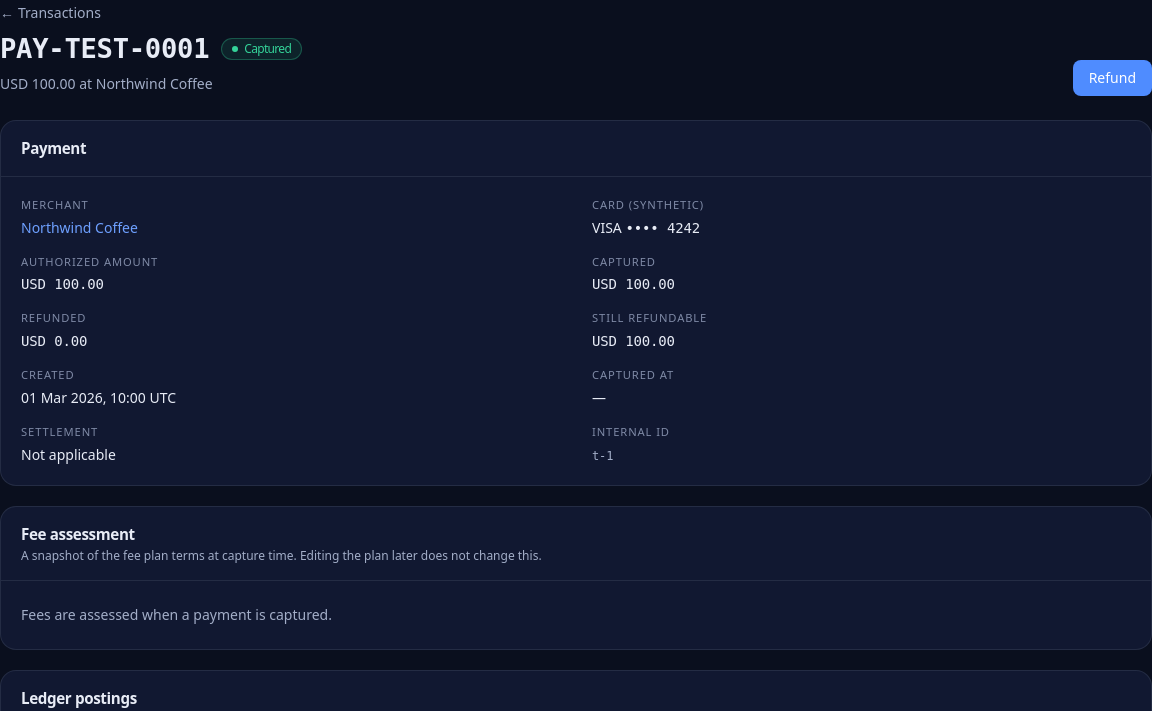
Test case: Transaction detail › blocks a refund larger than the refundable amount before calling the API
Click the button "Refund": (1112, 78) [1073, 60, 1151, 96]
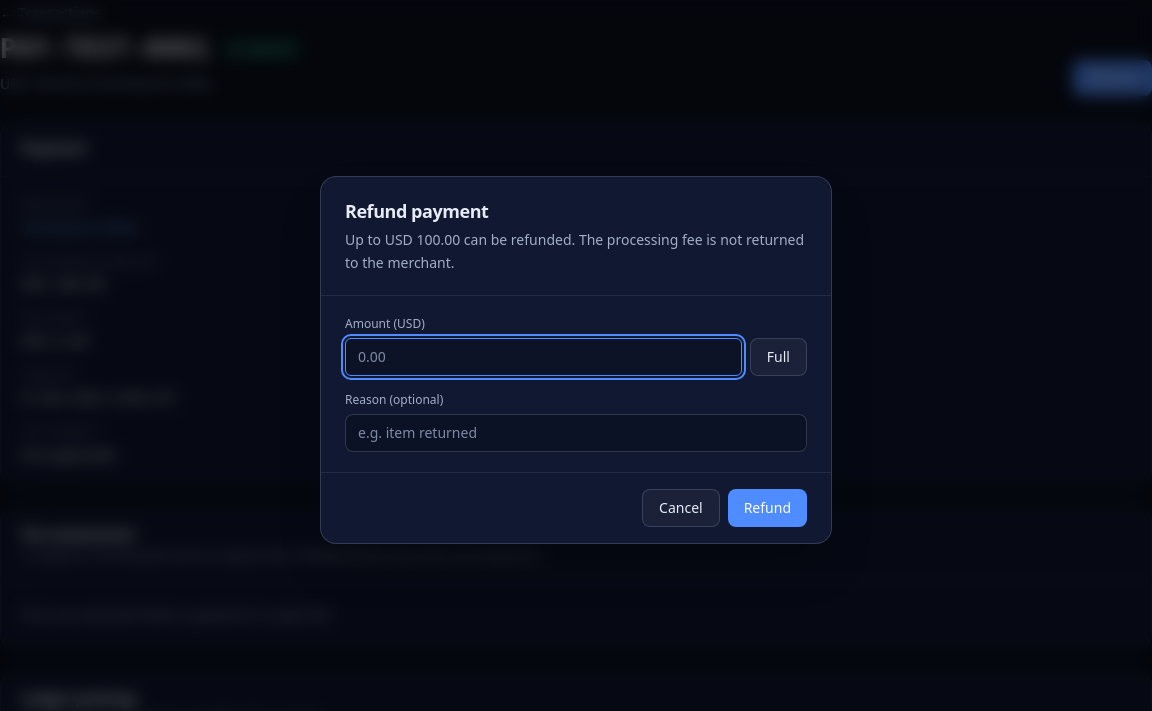
In the field labelled "Amount (USD)": (543, 357) [345, 338, 742, 376], type "100.01"
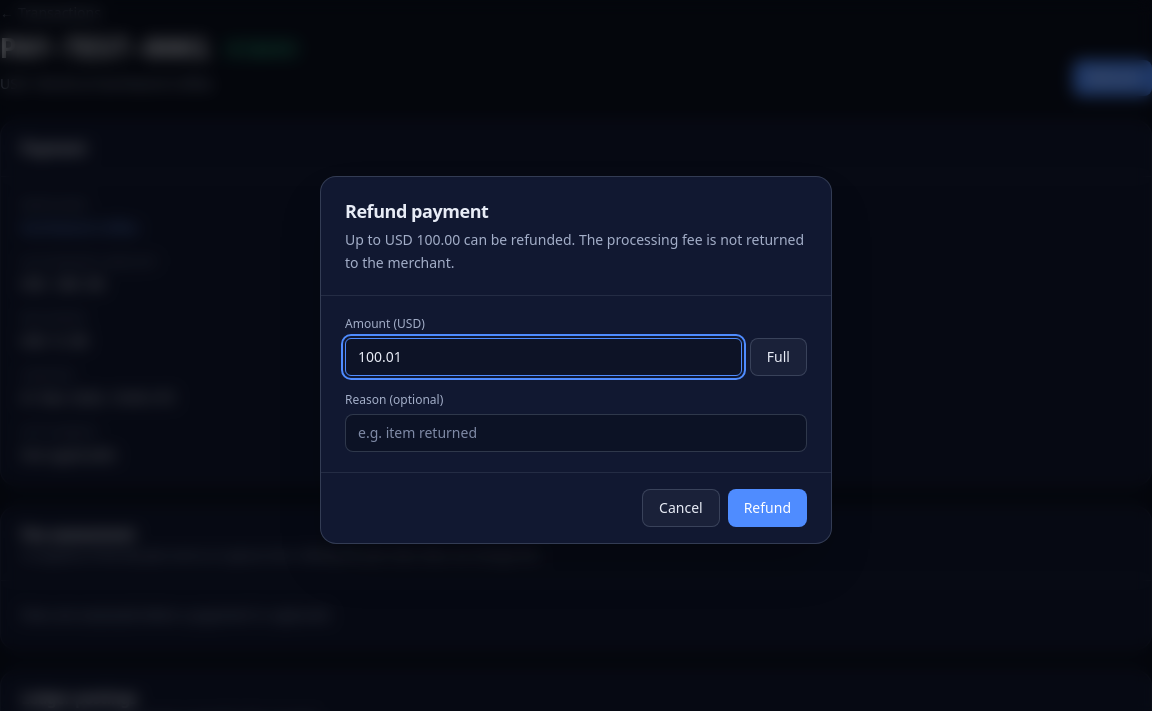
Click the button "Refund": (767, 508) [728, 489, 807, 527]
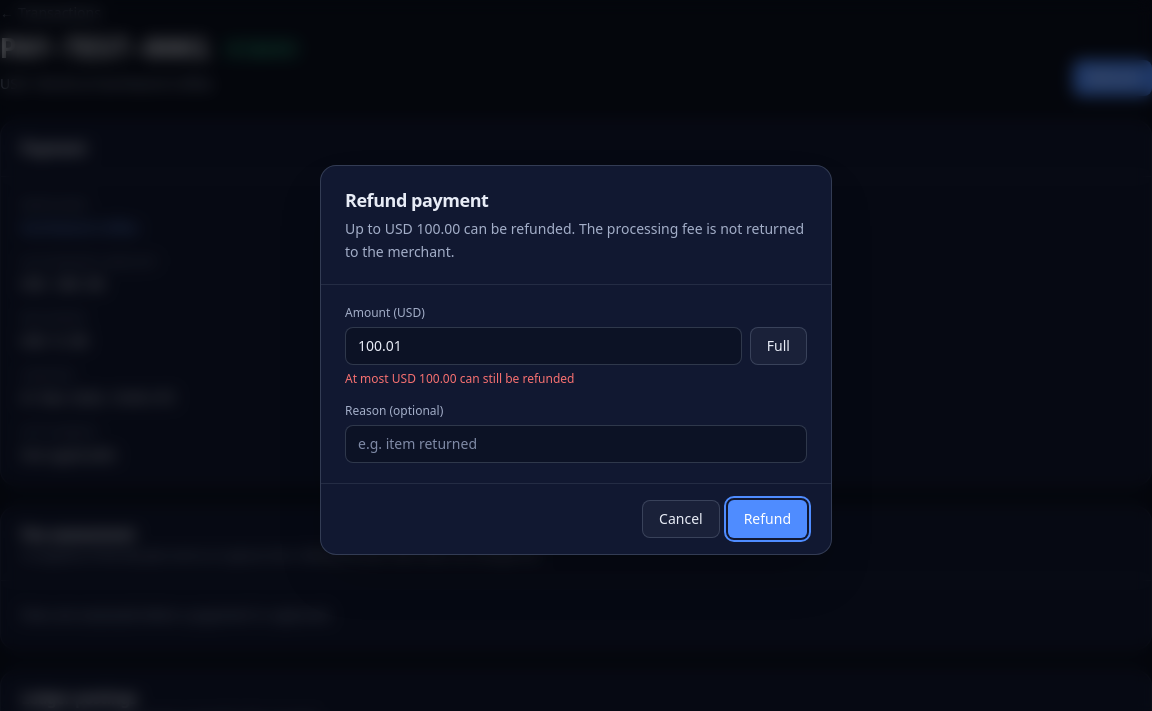
Now the text "At most USD 100.00 can still be refunded" is shown, box [345, 370, 574, 387]
